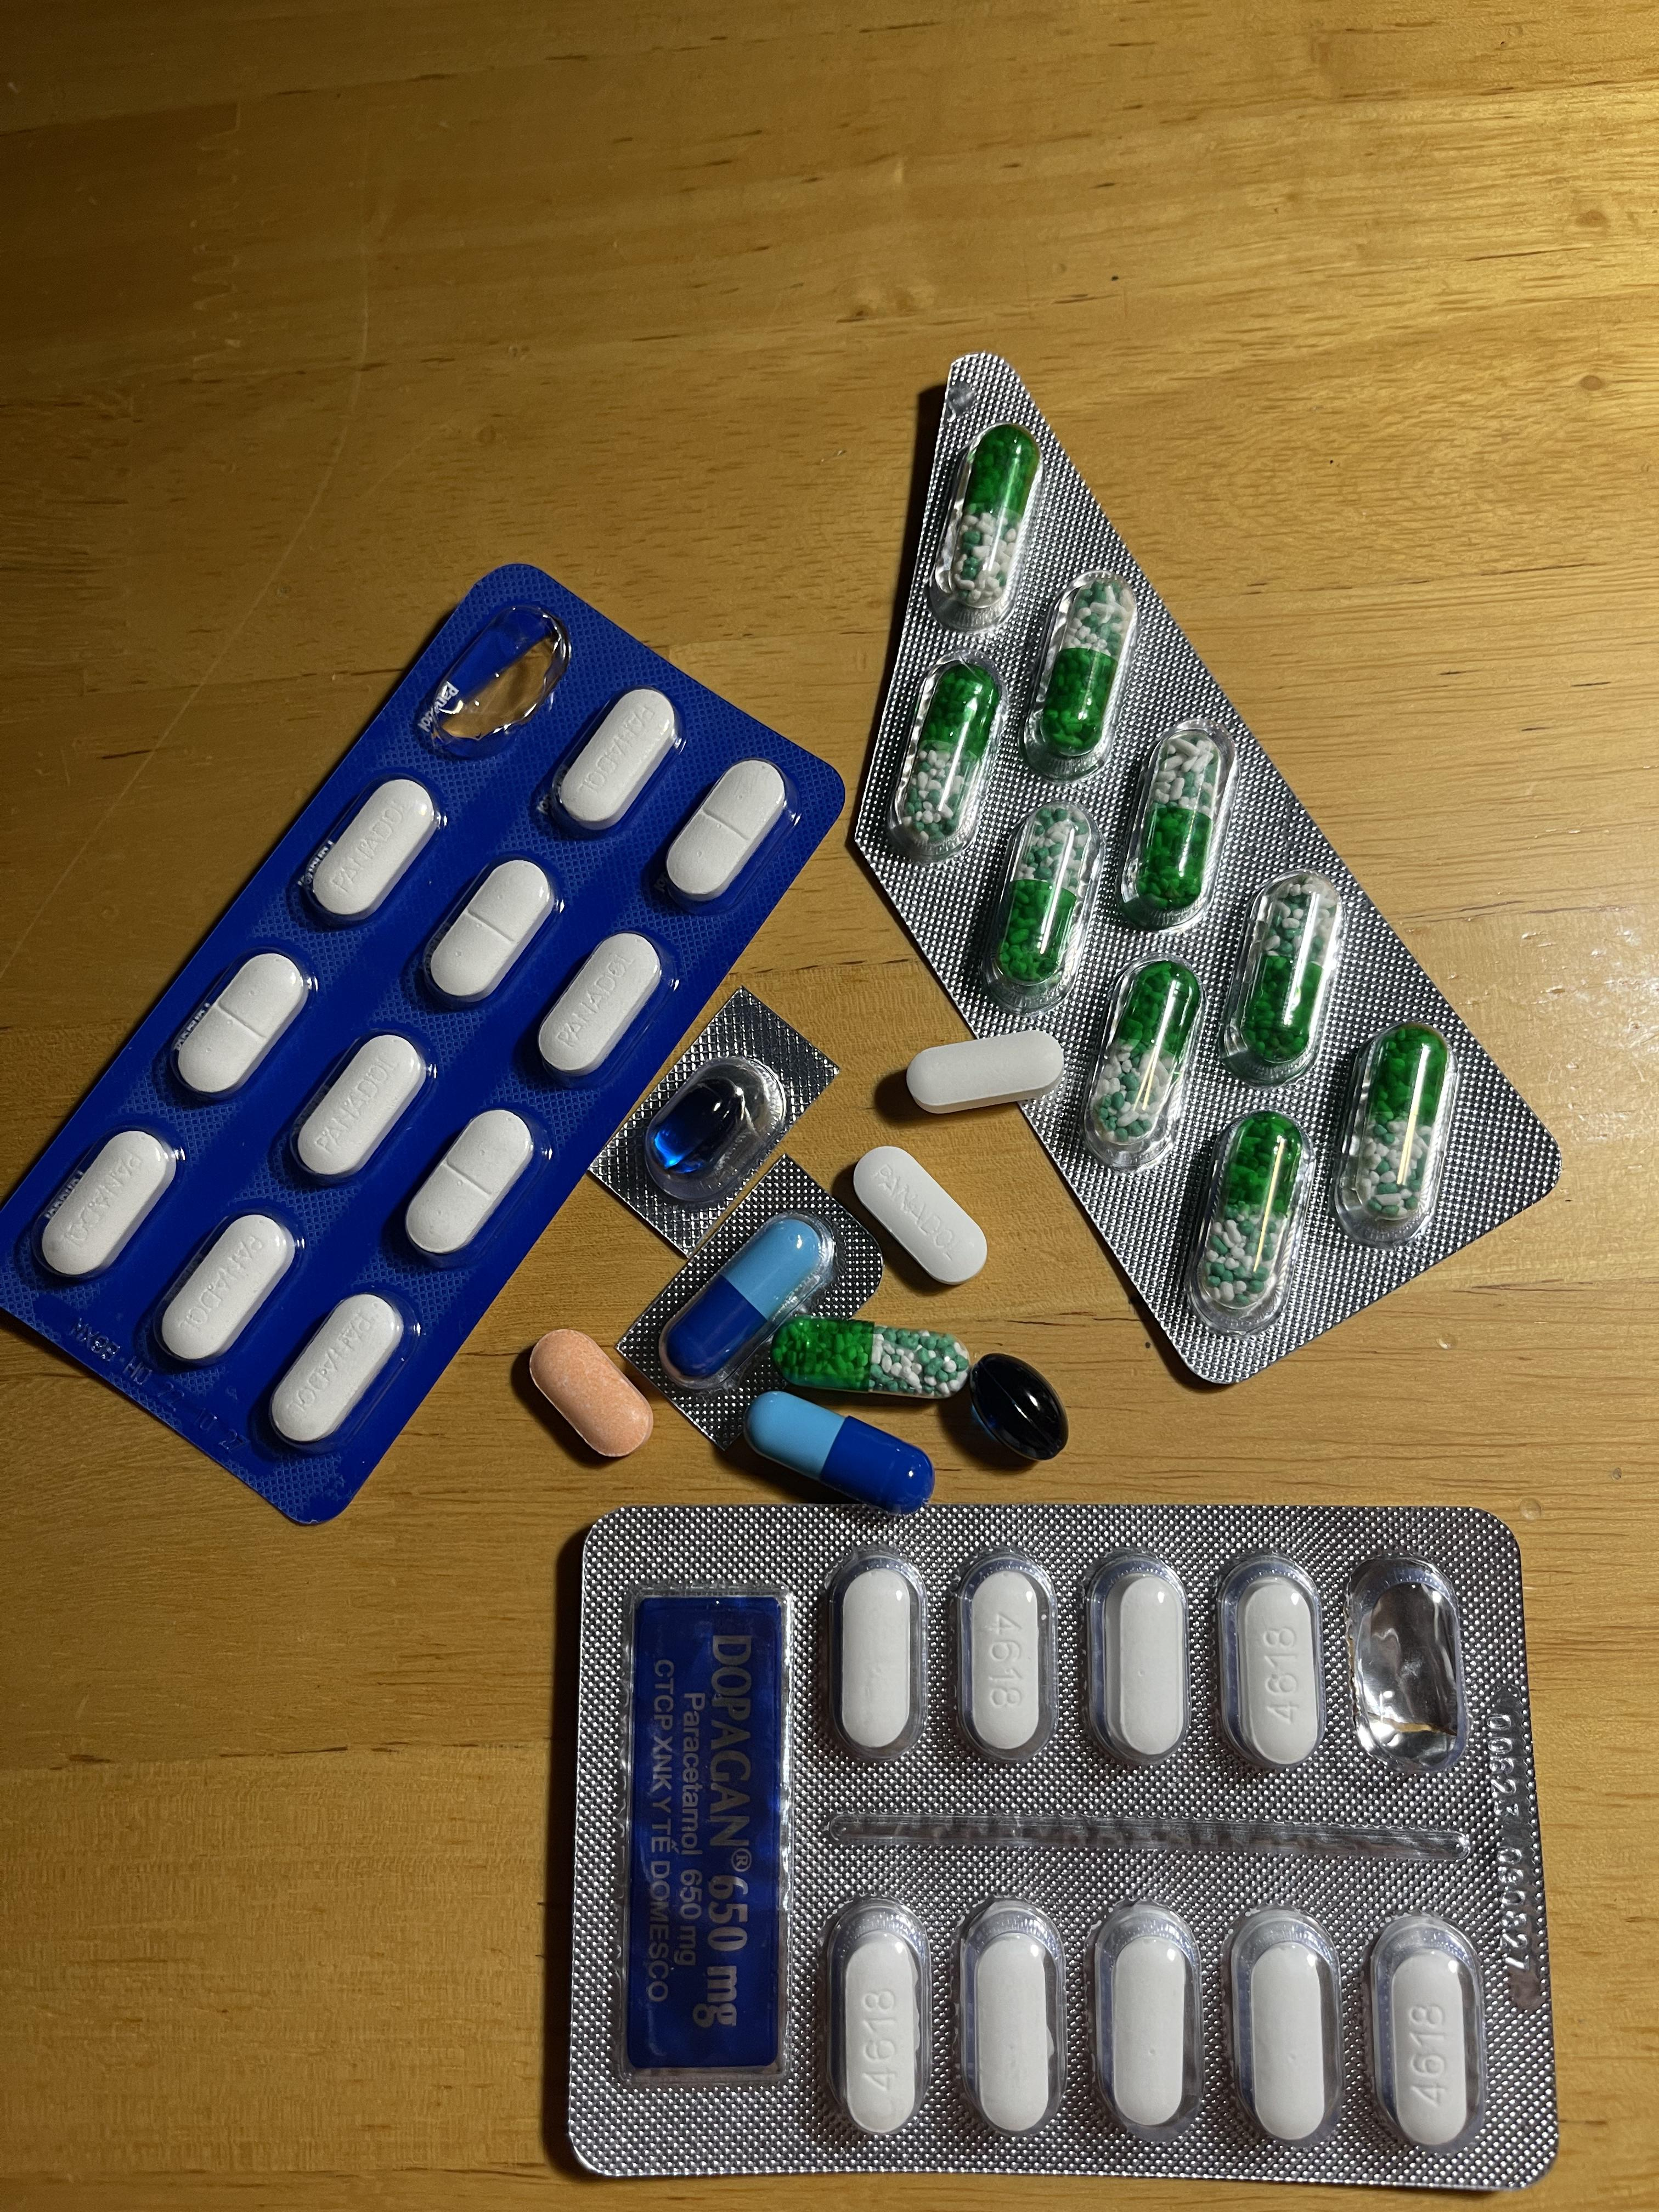Lincomyxin_500mg: (967, 1352, 1068, 1461), (648, 1075, 749, 1174)
Loratadine_10mg: (528, 1329, 657, 1458)
Paracetamol_350mg: (153, 1209, 300, 1367), (38, 1127, 181, 1284), (268, 1292, 406, 1449), (289, 1031, 427, 1184), (303, 777, 443, 927), (174, 949, 310, 1101), (404, 1106, 535, 1261), (533, 930, 666, 1082), (422, 857, 554, 1008), (547, 688, 678, 840), (850, 1146, 986, 1289), (662, 758, 789, 907)
Paracetamol_500mg: (1368, 1914, 1488, 2155), (1227, 1907, 1344, 2151), (1093, 1904, 1202, 2141), (823, 1898, 929, 2135), (1218, 1552, 1328, 1775), (951, 1548, 1058, 1766), (974, 1930, 1054, 2130), (840, 1571, 915, 1752), (1115, 1569, 1185, 1754), (904, 1033, 1058, 1116)
Paracetamol_650mg: (1337, 1021, 1462, 1242), (1187, 1109, 1309, 1332), (1082, 960, 1202, 1170), (1112, 723, 1232, 930), (972, 801, 1094, 1003), (1218, 871, 1335, 1082), (887, 660, 1006, 860), (929, 421, 1044, 627), (1023, 575, 1140, 773), (770, 1315, 964, 1397)
pill: (655, 1207, 833, 1390), (749, 1388, 927, 1507)
